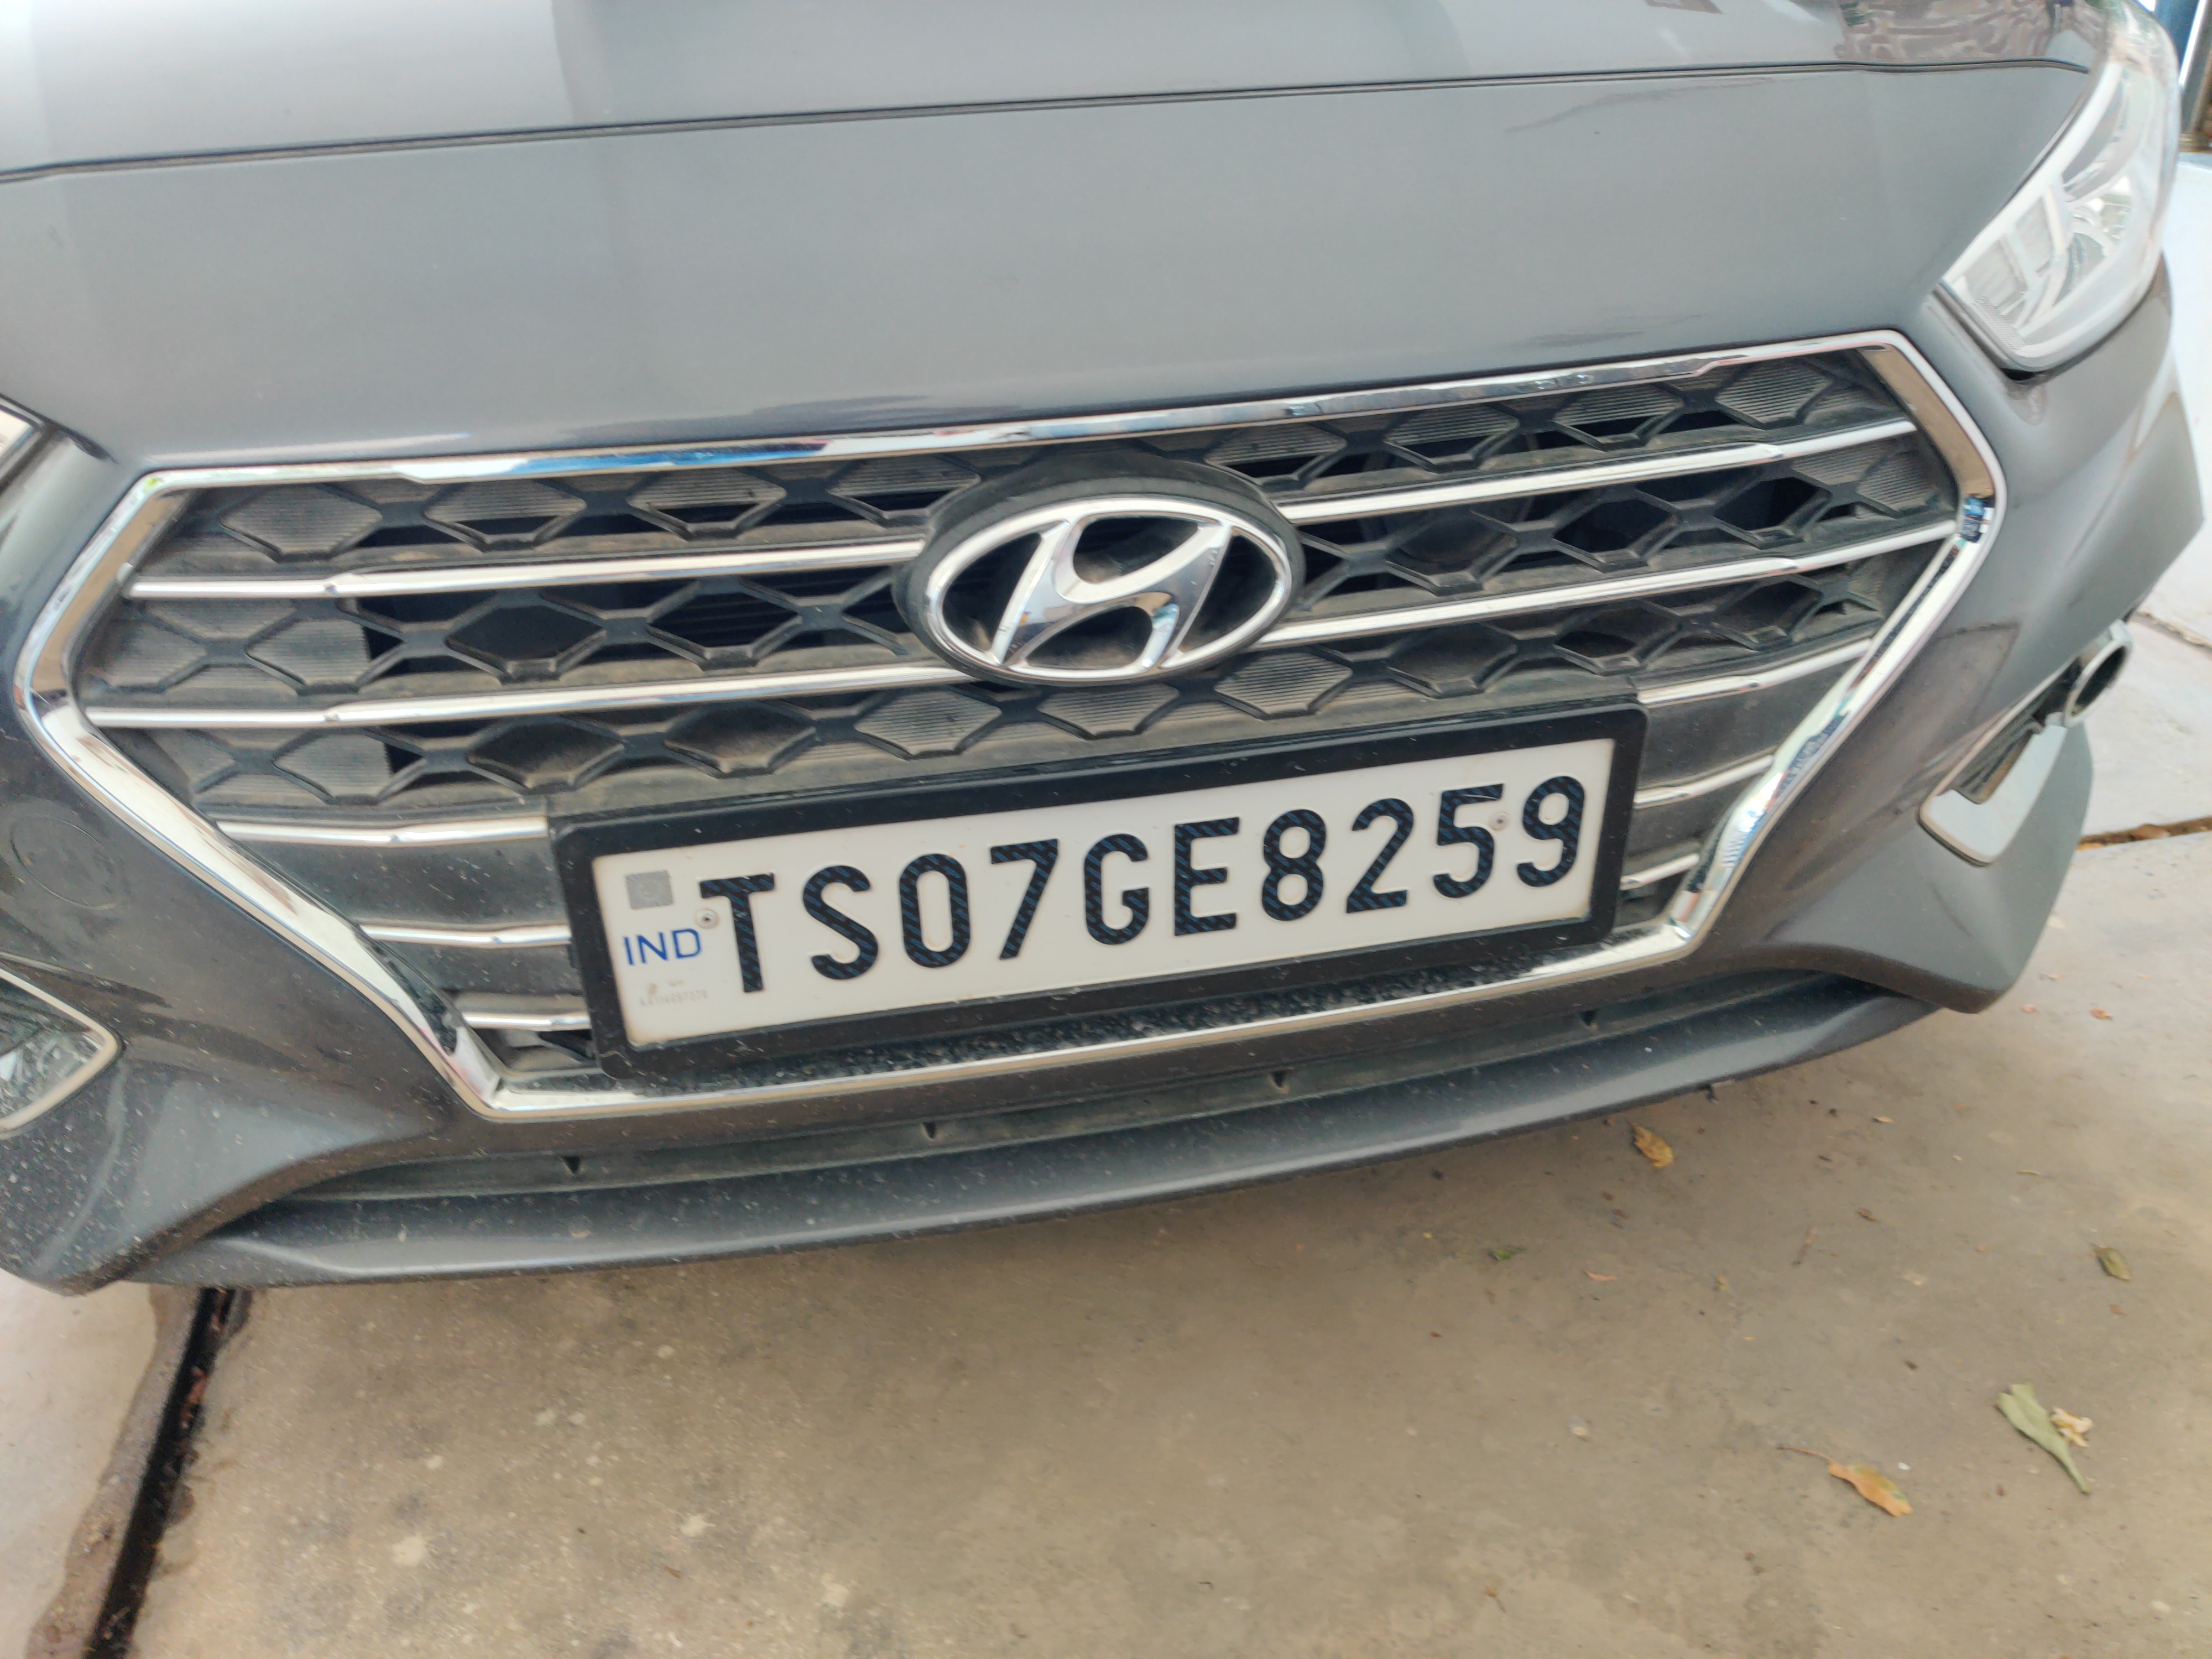plate: (516, 684, 1770, 1117)
